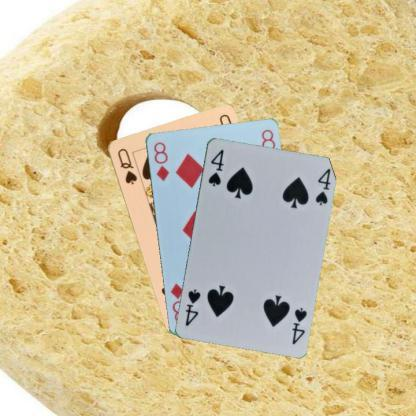4s: (205, 146, 225, 187), (289, 304, 308, 344)
8d: (150, 139, 171, 182)
Qs: (114, 146, 138, 186)
